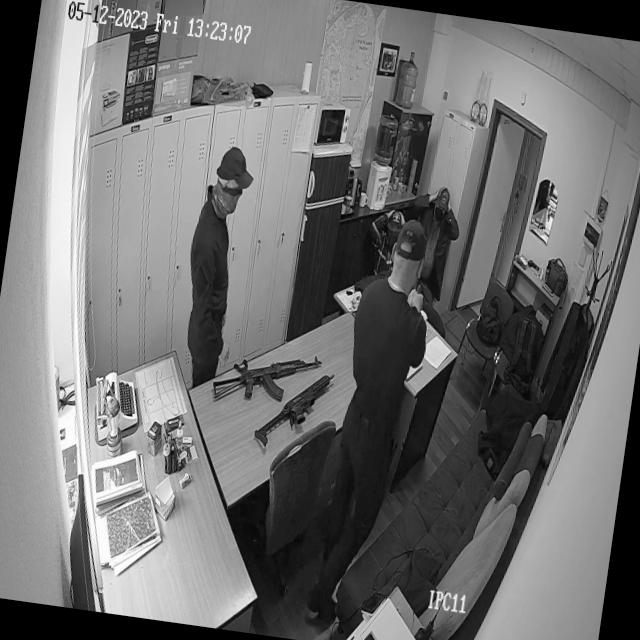gun: (206, 332, 328, 412), (252, 363, 341, 458), (414, 283, 430, 306)
person: (174, 140, 259, 367), (405, 178, 466, 280), (368, 203, 422, 261)
person with a gun: (313, 212, 443, 628)
